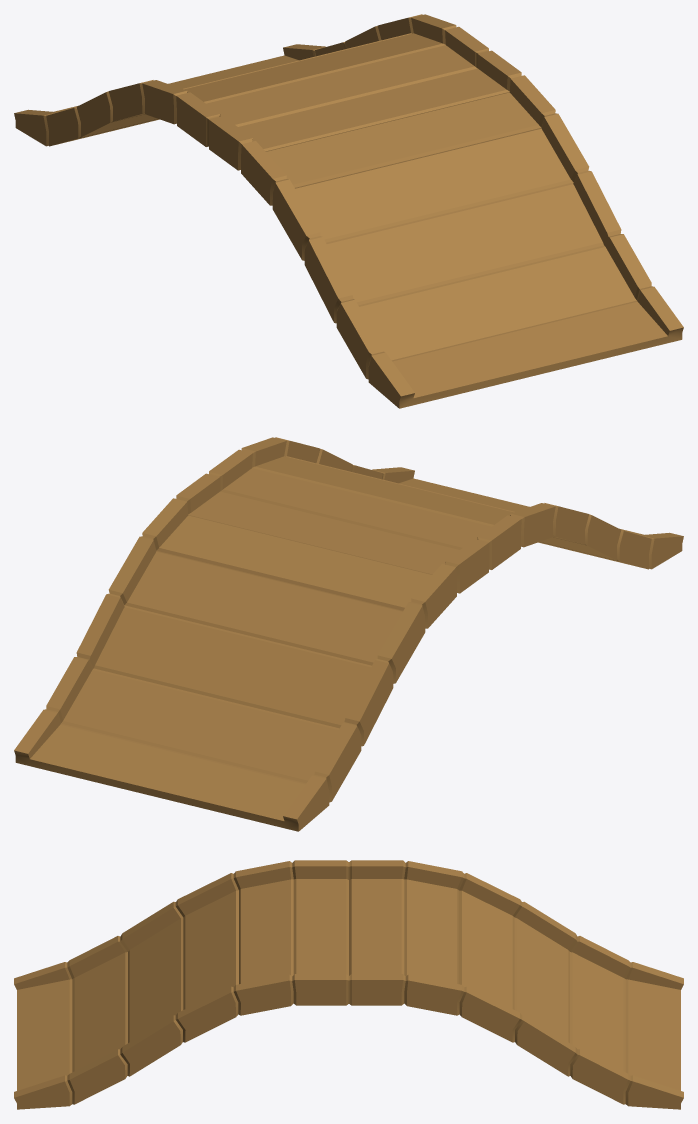
The model's file is pont.fbx.
3 renders of one model, top to bottom at view 1: azimuth 30°, elevation 25°; view 2: azimuth 150°, elevation 25°; view 3: azimuth 270°, elevation 25°, orthographic. The views are drawn at different scales.
Parts seen in each view (by area): view 1: pont; view 2: pont; view 3: pont.
Part boxes in pixels (left/top/right/bottom): pont: left=14, top=14, right=683, bottom=408; pont: left=14, top=437, right=683, bottom=831; pont: left=14, top=860, right=683, bottom=1109.
Size of the model in its own units: 13.84 by 7.01 by 32.77.
